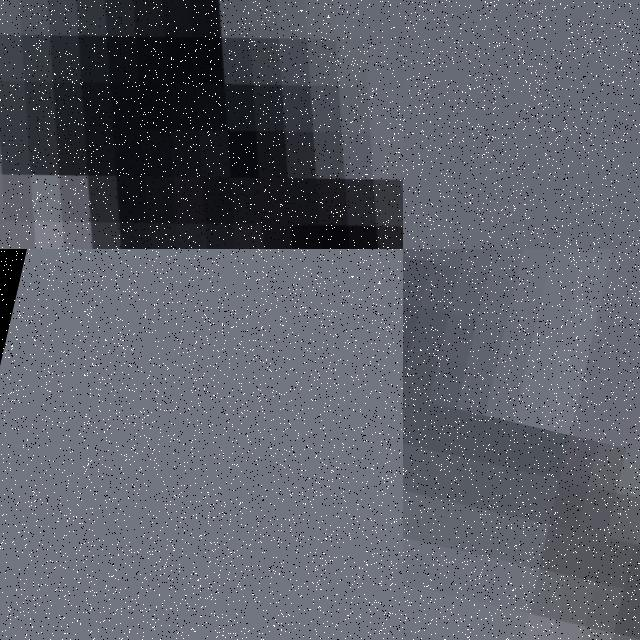drone: (0, 0, 403, 249)
